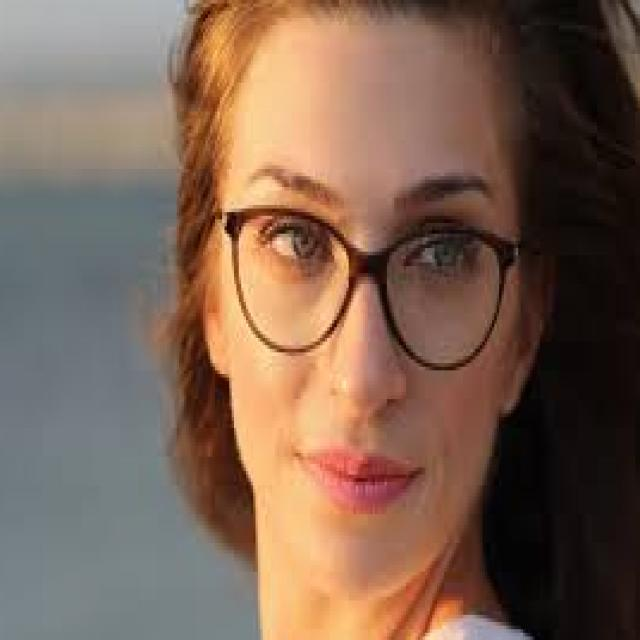Glasses: (213, 174, 529, 384)
